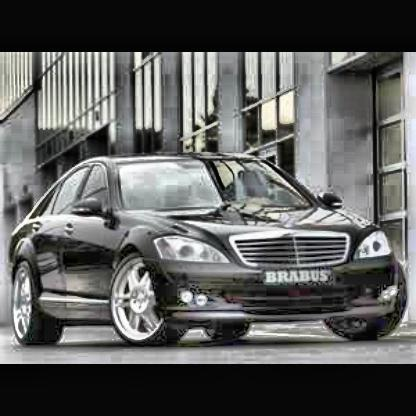Mercedes-Benz S-Class Sedan 2012: (6, 149, 416, 350)
